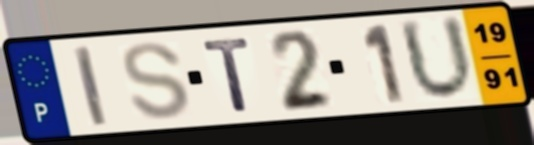1: (360, 21, 409, 107)
2: (266, 27, 337, 115)
I: (69, 42, 111, 129)
S: (119, 40, 193, 123)
T: (200, 34, 254, 114)
U: (395, 13, 479, 105)
